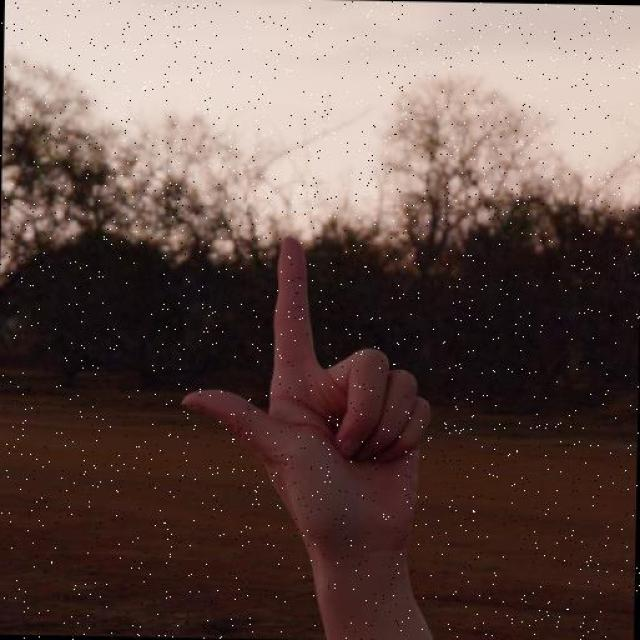L: (143, 205, 473, 640)
